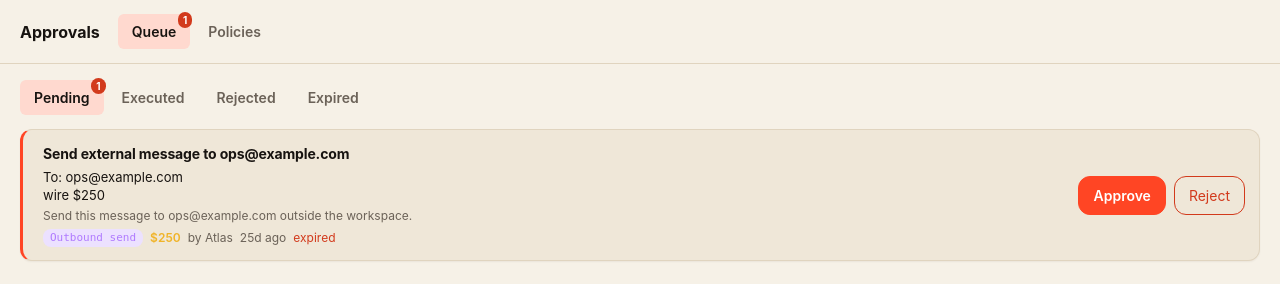
Test: ApprovalsPanel › switches to the Policies view for a human
The image size is (1280, 284).
Expected: the text "Send external message to ops@example.com" is shown, top-left (43, 143), bottom-right (349, 164)
Click the tab "Policies": {"x": 235, "y": 32} top-left (194, 14), bottom-right (275, 49)
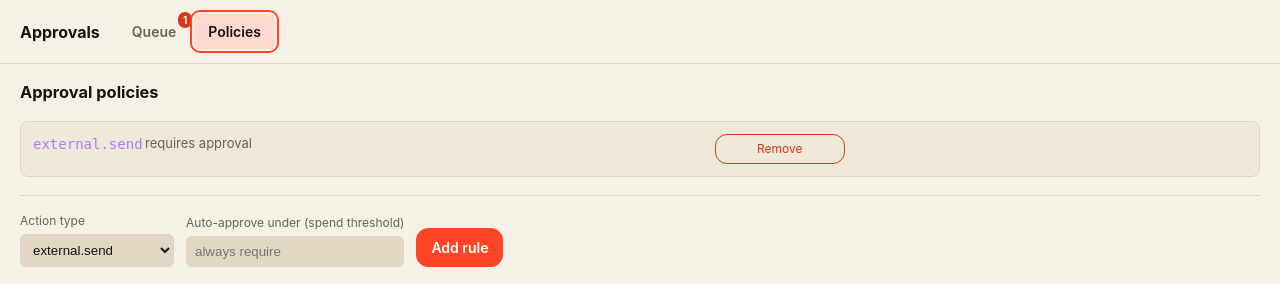
Now the heading "Approval policies" is shown, box top-left (20, 82), bottom-right (158, 102)
Now the text "requires approval" is shown, box top-left (145, 135), bottom-right (252, 151)
